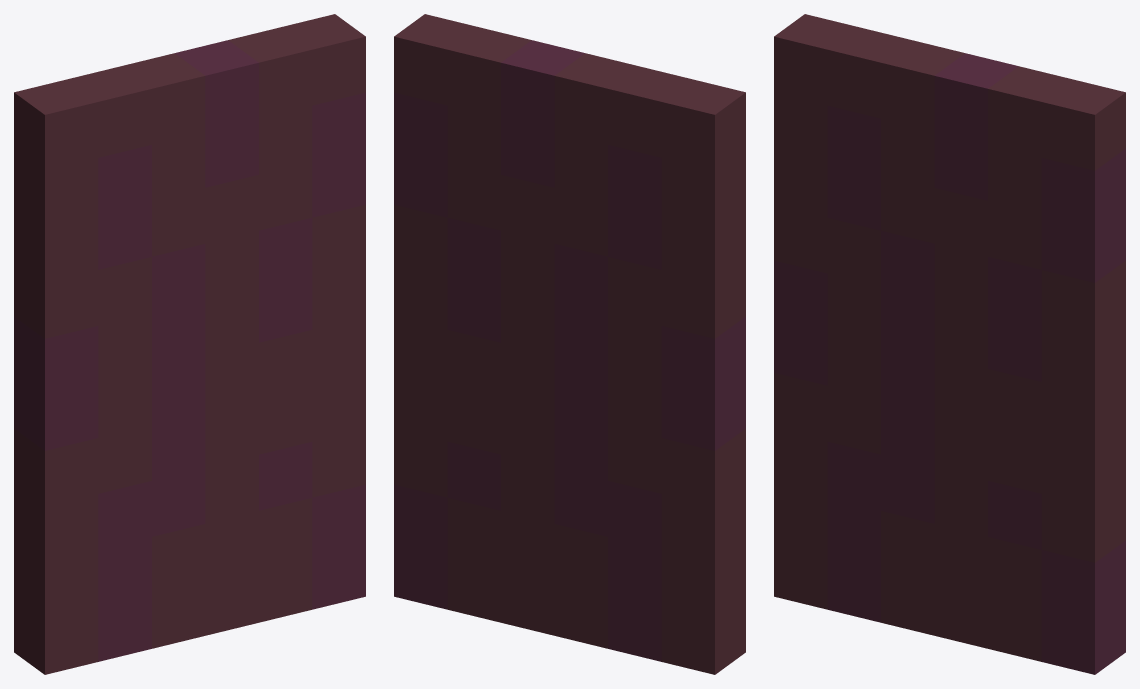
The model's file is door.obj.
3 renders of one model, left to right at view 1: azimuth 30°, elevation 25°; view 2: azimuth 150°, elevation 25°; view 3: azimuth 330°, elevation 25°, orthographic.
Bounding box in the file's own units: 0.6 × 1 × 0.1.
1 material, 1 textured.
